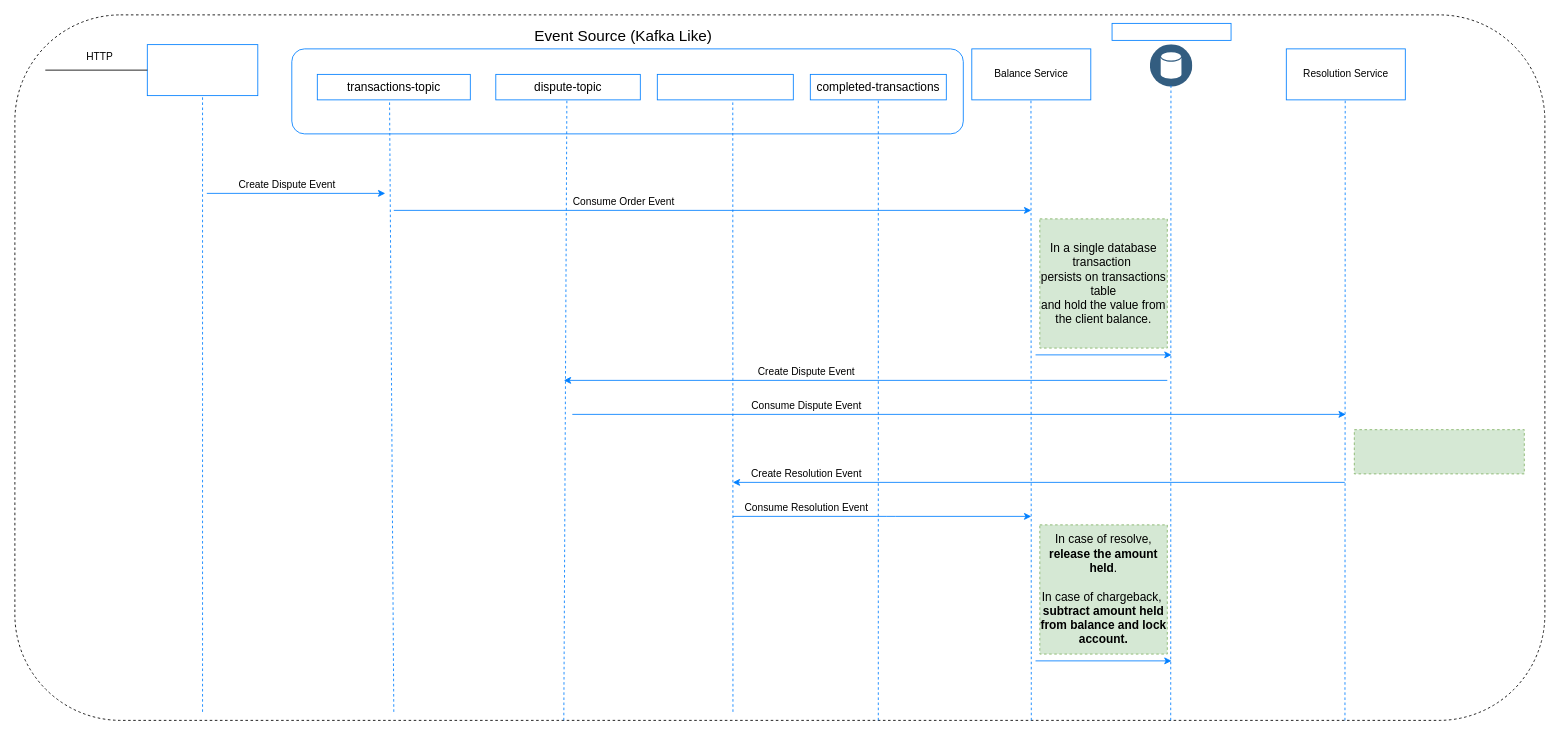
The diagram is 1560 pixels wide and 736 high, and some of its shapes have lost their labels. Each missing label, with the centre of its shape:
Balance DB: pixel 1171 31
dispute-resolution-topic: pixel 724 87
Either resolve or chargeback.: pixel 1438 451
Order Transfer Service: pixel 202 70
